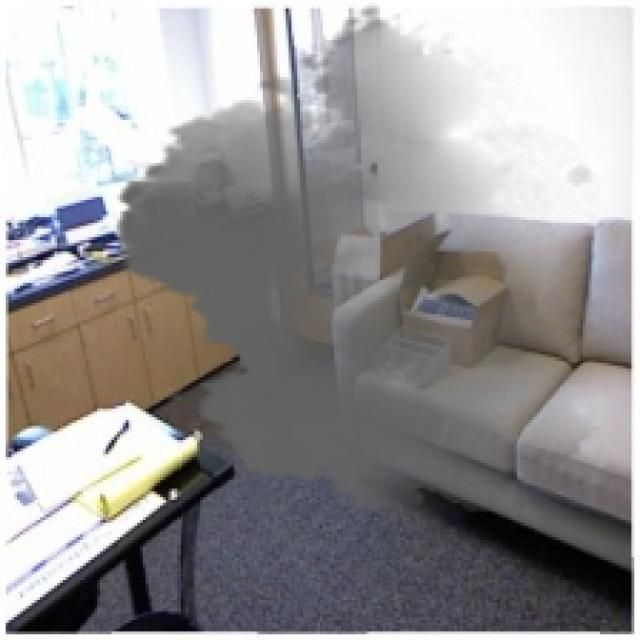smoke: (97, 3, 617, 523)
